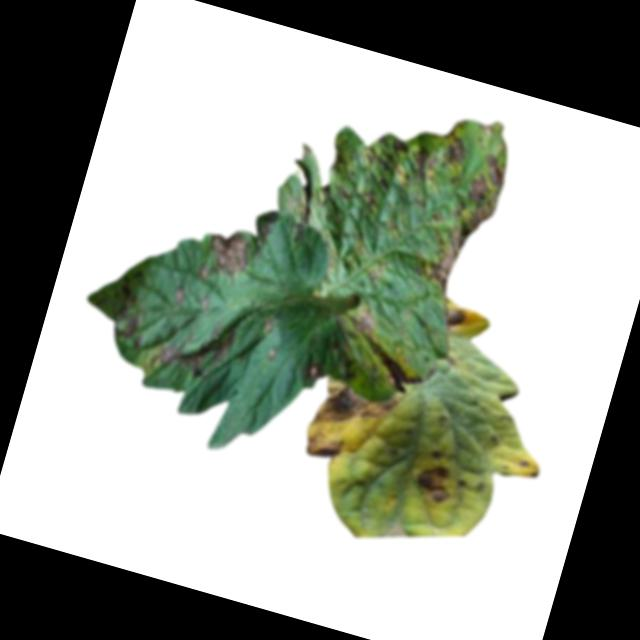Early_blight: (422, 147, 510, 301), (334, 305, 438, 397), (148, 306, 237, 387), (311, 374, 399, 446), (356, 129, 442, 201), (195, 224, 254, 292), (411, 459, 467, 507), (301, 425, 345, 462), (117, 305, 151, 349), (438, 127, 468, 166), (440, 304, 468, 331), (168, 281, 189, 308), (304, 361, 323, 385), (362, 189, 380, 208), (428, 445, 447, 463)
